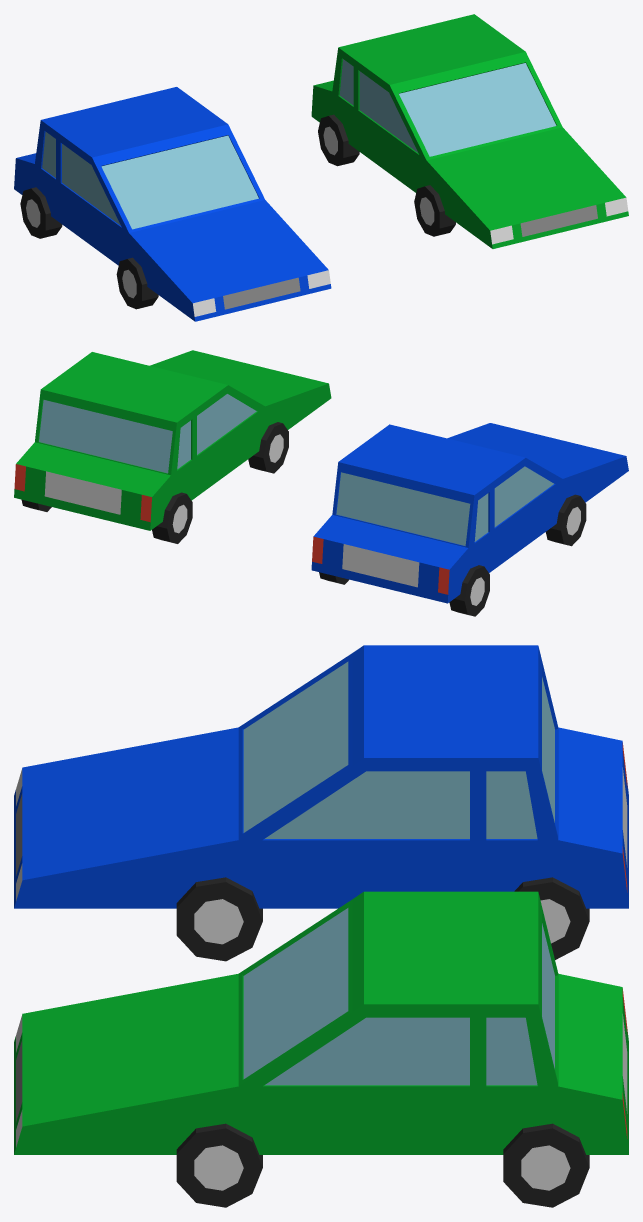
Rendered from Car.fbx.
3 views of the same model, one above another, from view 1: azimuth 30°, elevation 25°; view 2: azimuth 150°, elevation 25°; view 3: azimuth 270°, elevation 25° (orthographic). The views are drawn at different scales.
Parts seen in each view (by area): view 1: blue_coupe.001, Greencoupe; view 2: Greencoupe, blue_coupe.001; view 3: Greencoupe, blue_coupe.001.
Part boxes in pixels (x1,y1,x2,y2): blue_coupe.001: (14,87,331,321); Greencoupe: (311,14,628,248); Greencoupe: (14,350,331,543); blue_coupe.001: (311,423,628,616); Greencoupe: (14,891,628,1207); blue_coupe.001: (14,645,628,961).
Size of the model in its own units: 6.16 by 1.55 by 4.35.
